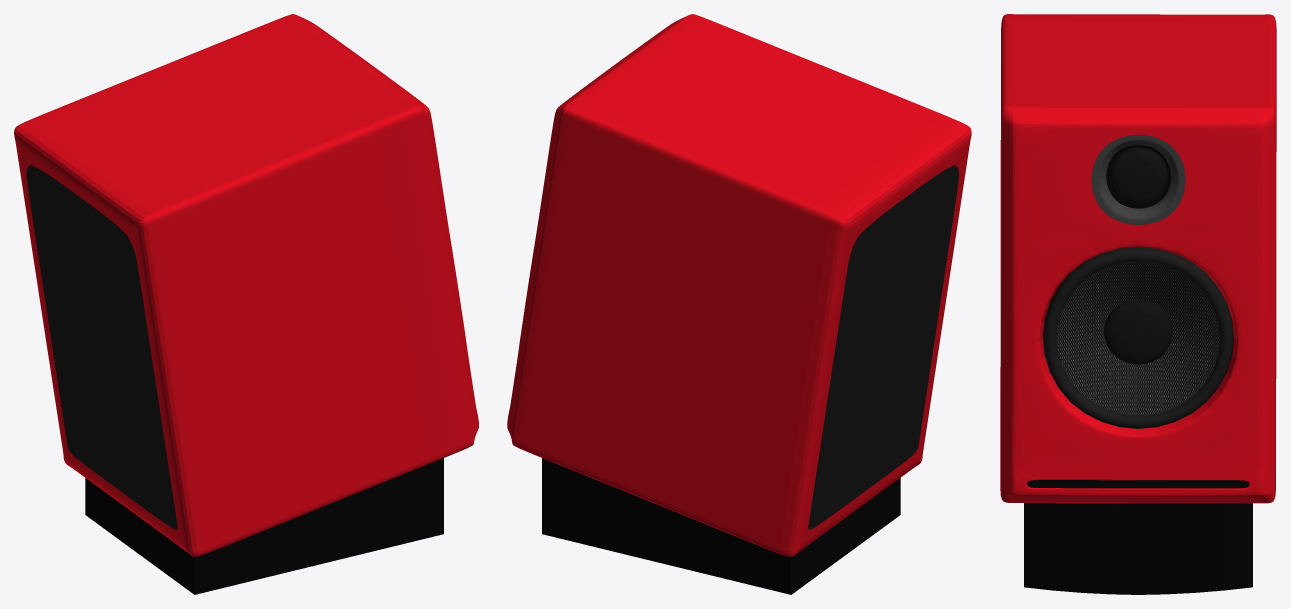
Rendered from speakers 4 red.glb.
3 renders of one model, left to right at view 1: azimuth 30°, elevation 25°; view 2: azimuth 150°, elevation 25°; view 3: azimuth 270°, elevation 25°, orthographic. The views are drawn at different scales.
Parts seen in each view (by area): view 1: Cube.002; view 2: Cube.002; view 3: Cube.002.
Boxes of the visible parts, left/top/right/bottom form: Cube.002: left=14, top=14, right=478, bottom=594; Cube.002: left=507, top=14, right=971, bottom=594; Cube.002: left=1000, top=14, right=1276, bottom=594.
Size of the model in its own units: 6.04 by 7.41 by 4.01.
Materials: 8 (1 with a texture image).
